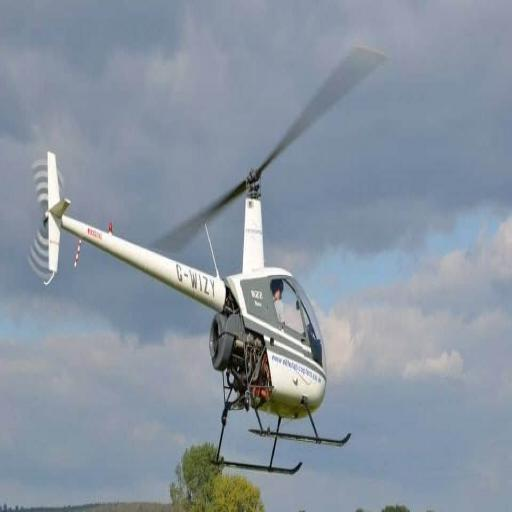helicopter: (33, 48, 383, 477)
